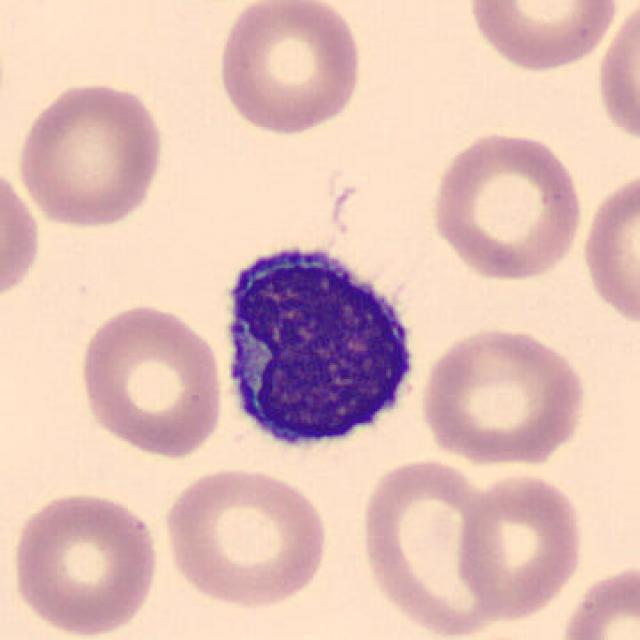Lymphocyte: (208, 228, 427, 460)
RBC: (356, 453, 512, 638), (158, 462, 332, 612), (426, 125, 586, 286), (416, 323, 590, 467), (74, 300, 228, 462), (13, 76, 167, 231), (7, 487, 164, 638), (452, 467, 588, 624), (214, 0, 366, 138), (462, 0, 622, 74), (578, 166, 638, 331), (592, 0, 640, 150), (556, 559, 638, 640), (0, 160, 44, 306)
